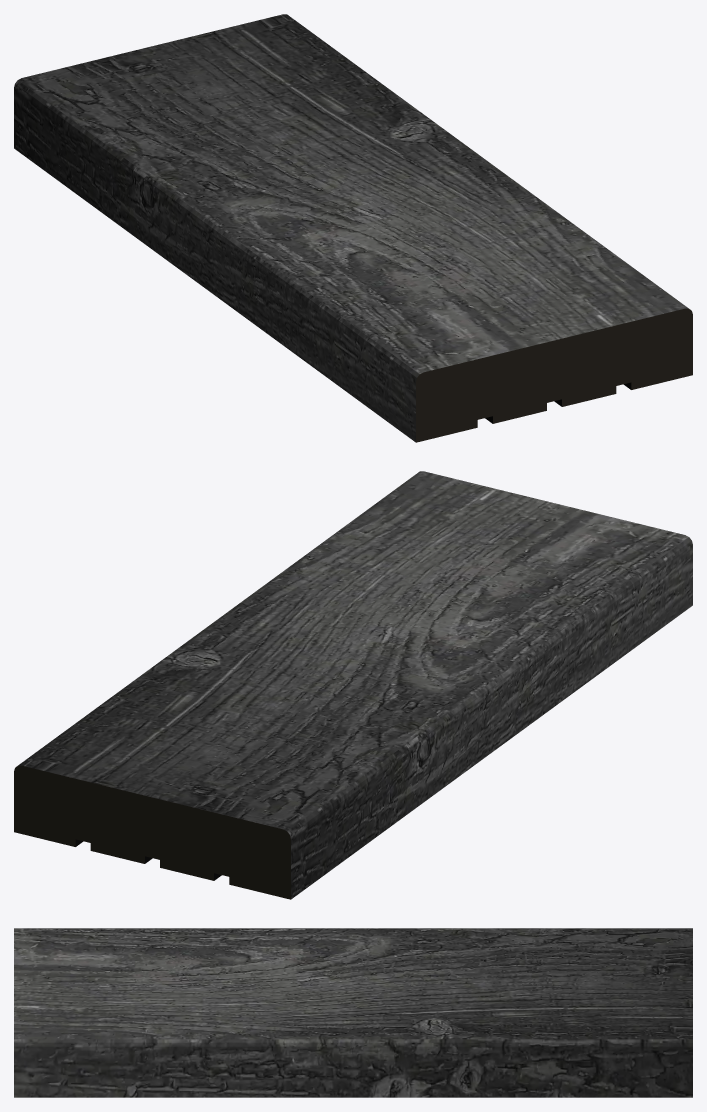
File: larch-terrace-carbon-light.glb
The picture shows the model from 3 angles, top to bottom: view 1: azimuth 30°, elevation 25°; view 2: azimuth 150°, elevation 25°; view 3: azimuth 270°, elevation 25°; orthographic projection. The views are drawn at different scales.
Parts seen in each view (by area): view 1: Staciakampis; view 2: Staciakampis; view 3: Staciakampis.
Part boxes in pixels (x1,y1,x2,y2): Staciakampis: (14, 14, 692, 442); Staciakampis: (14, 471, 692, 899); Staciakampis: (14, 928, 692, 1097).
Bounding box in the file's own units: 0.0733 × 0.0173 × 0.1843.
Materials: 3 (1 with a texture image).
